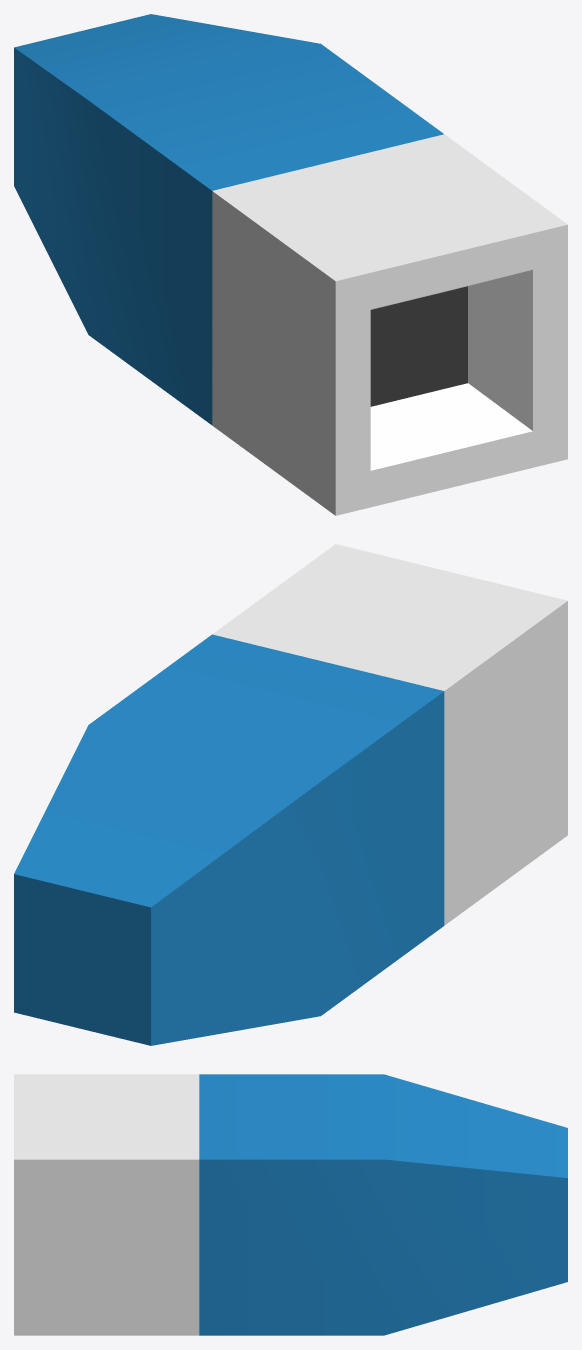
File: Space ship reactor.fbx
3 renders of one model, top to bottom at view 1: azimuth 30°, elevation 25°; view 2: azimuth 150°, elevation 25°; view 3: azimuth 270°, elevation 25°, orthographic. The views are drawn at different scales.
Parts seen in each view (by area): view 1: engine_plane_15; view 2: engine_plane_15; view 3: engine_plane_15.
Boxes of the visible parts, x1,y1,x2,y2 form: engine_plane_15: (14,14,567,515); engine_plane_15: (14,544,567,1045); engine_plane_15: (14,1074,567,1335).
Bounding box in the file's own units: 2.15 × 2.08 × 5.92.
